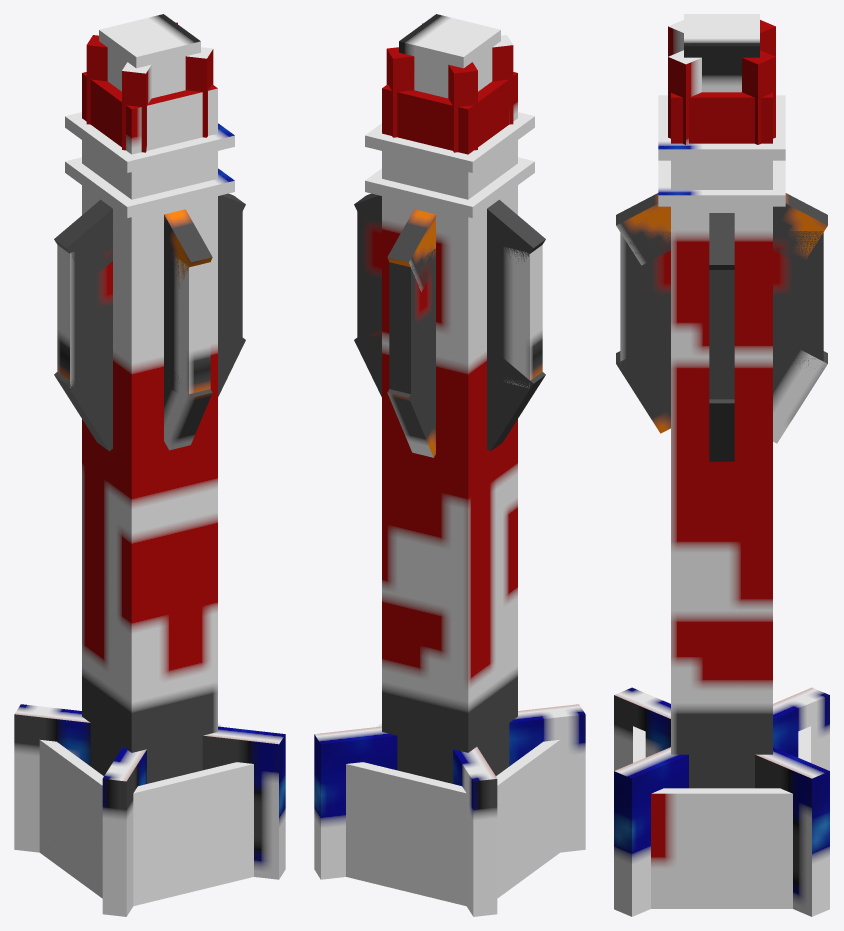
Rendered from missile_sonic.obj.
3 renders of one model, left to right at view 1: azimuth 30°, elevation 25°; view 2: azimuth 150°, elevation 25°; view 3: azimuth 270°, elevation 25°, orthographic. The views are drawn at different scales.
Visible parts, largest first — view 1: Shape1, Shape2, Shape3, Shape5a, Shape2c, Shape5, Shape7a, Shape3a, Shape7, Shape6, Shape6a, Shape4g (+7 smaller); view 2: Shape1, Shape2a, Shape3a, Shape5a, Shape2c, Shape7a, Shape5, Shape3, Shape7, Shape6, Shape6a, Shape4a (+6 smaller); view 3: Shape1, Shape2b, Shape5, Shape3, Shape3a, Shape7, Shape7a, Shape5a, Shape6a, Shape4d, Shape4, Shape6 (+6 smaller).
Boxes of the visible parts, bbox=[...] form: Shape1: bbox=[82, 140, 217, 783]; Shape2: bbox=[133, 762, 253, 906]; Shape3: bbox=[14, 704, 285, 879]; Shape5a: bbox=[57, 211, 242, 387]; Shape2c: bbox=[39, 740, 103, 898]; Shape5: bbox=[164, 249, 210, 401]; Shape7a: bbox=[82, 72, 217, 154]; Shape3a: bbox=[102, 747, 146, 916]; Shape7: bbox=[99, 14, 200, 98]; Shape6: bbox=[65, 157, 234, 218]; Shape6a: bbox=[65, 112, 234, 172]; Shape4g: bbox=[54, 199, 112, 281]; Shape1: bbox=[382, 140, 517, 783]; Shape2a: bbox=[346, 762, 466, 906]; Shape3a: bbox=[314, 704, 585, 879]; Shape5a: bbox=[357, 211, 542, 388]; Shape2c: bbox=[496, 740, 560, 898]; Shape7a: bbox=[382, 72, 517, 154]; Shape5: bbox=[389, 248, 435, 400]; Shape3: bbox=[453, 747, 497, 916]; Shape7: bbox=[399, 14, 500, 98]; Shape6: bbox=[365, 157, 534, 218]; Shape6a: bbox=[365, 112, 534, 172]; Shape4a: bbox=[487, 344, 545, 451]; Shape1: bbox=[671, 160, 772, 788]; Shape2b: bbox=[651, 788, 792, 908]; Shape5: bbox=[620, 231, 823, 369]; Shape3: bbox=[614, 687, 829, 916]; Shape3a: bbox=[614, 687, 829, 916]; Shape7: bbox=[684, 14, 759, 92]; Shape7a: bbox=[671, 92, 772, 143]; Shape5a: bbox=[709, 270, 734, 399]; Shape6a: bbox=[658, 95, 785, 160]; Shape4d: bbox=[773, 335, 827, 443]; Shape4: bbox=[616, 335, 670, 433]; Shape6: bbox=[658, 160, 785, 206].
Bounding box in the file's own units: 1.06 × 4.56 × 1.06.
